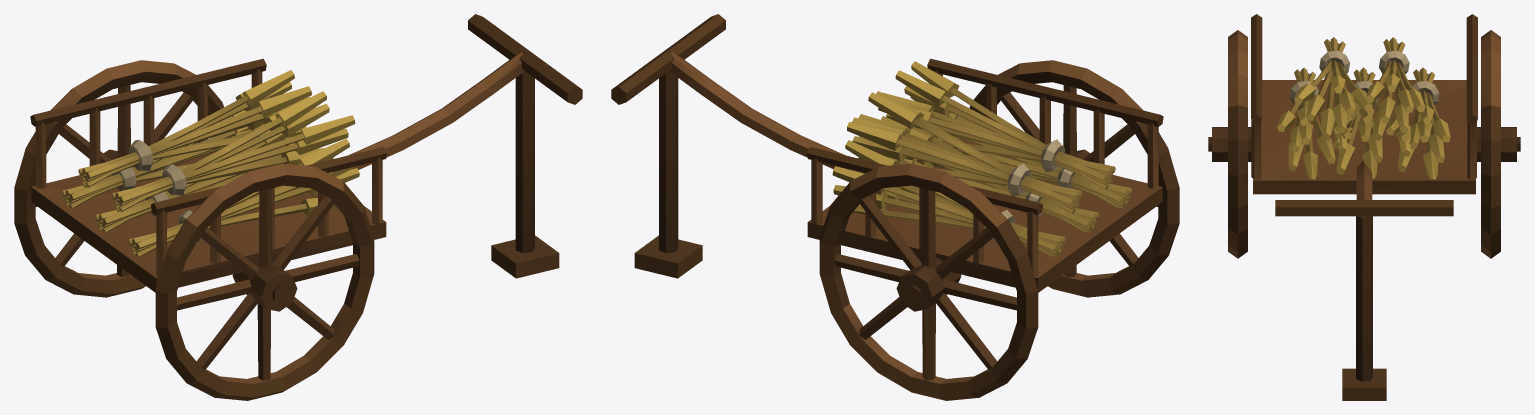
The picture shows the model from 3 angles, left to right: view 1: azimuth 30°, elevation 25°; view 2: azimuth 150°, elevation 25°; view 3: azimuth 270°, elevation 25°; orthographic projection. The views are drawn at different scales.
Visible parts, largest first — view 1: base; view 2: base; view 3: base.
Part boxes in pixels (<box>): base: <box>14,14,582,400</box>; base: <box>611,14,1179,400</box>; base: <box>1208,14,1520,400</box>.
Bounding box in the file's own units: 0.6421 × 0.3143 × 0.42.
